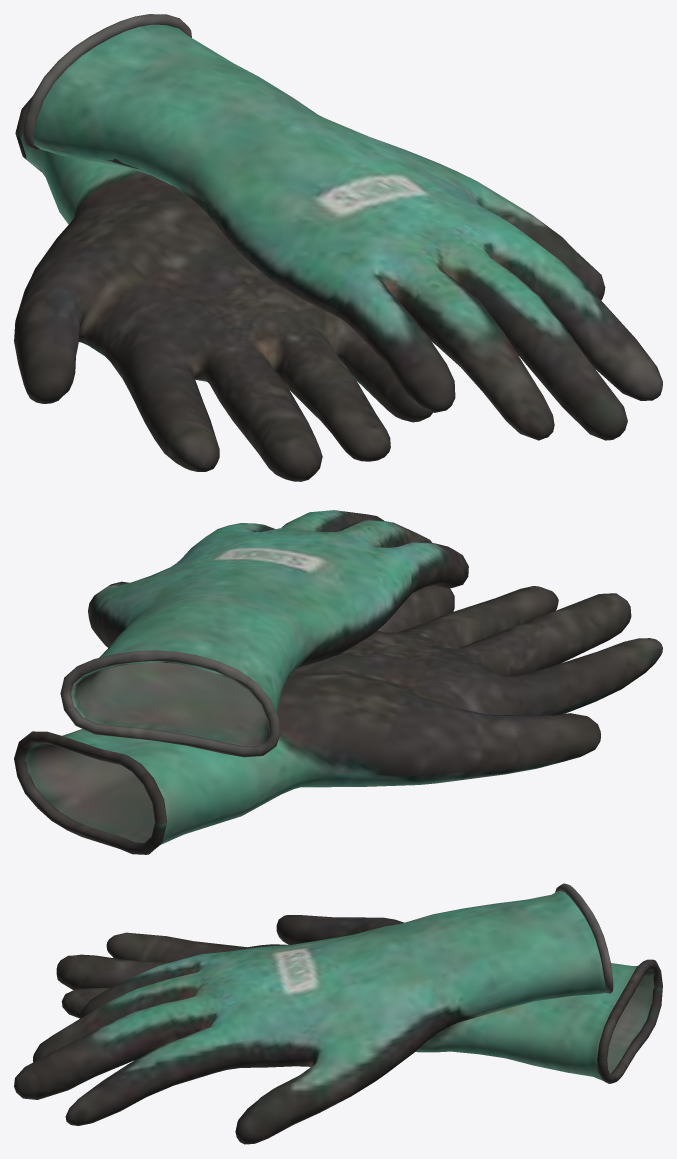
Rendered from ph_garden_gloves_01.glb.
3 renders of one model, top to bottom at view 1: azimuth 30°, elevation 25°; view 2: azimuth 150°, elevation 25°; view 3: azimuth 270°, elevation 25°, orthographic. The views are drawn at different scales.
Visible parts, largest first — view 1: garden_gloves_01; view 2: garden_gloves_01; view 3: garden_gloves_01.
Part boxes in pixels (x1=…): garden_gloves_01: x1=14, y1=14, x2=662, y2=481; garden_gloves_01: x1=14, y1=510, x2=662, y2=854; garden_gloves_01: x1=14, y1=883, x2=662, y2=1144.
Size of the model in its own units: 0.2266 by 0.076 by 0.299.
Materials: 1 (1 with a texture image).
